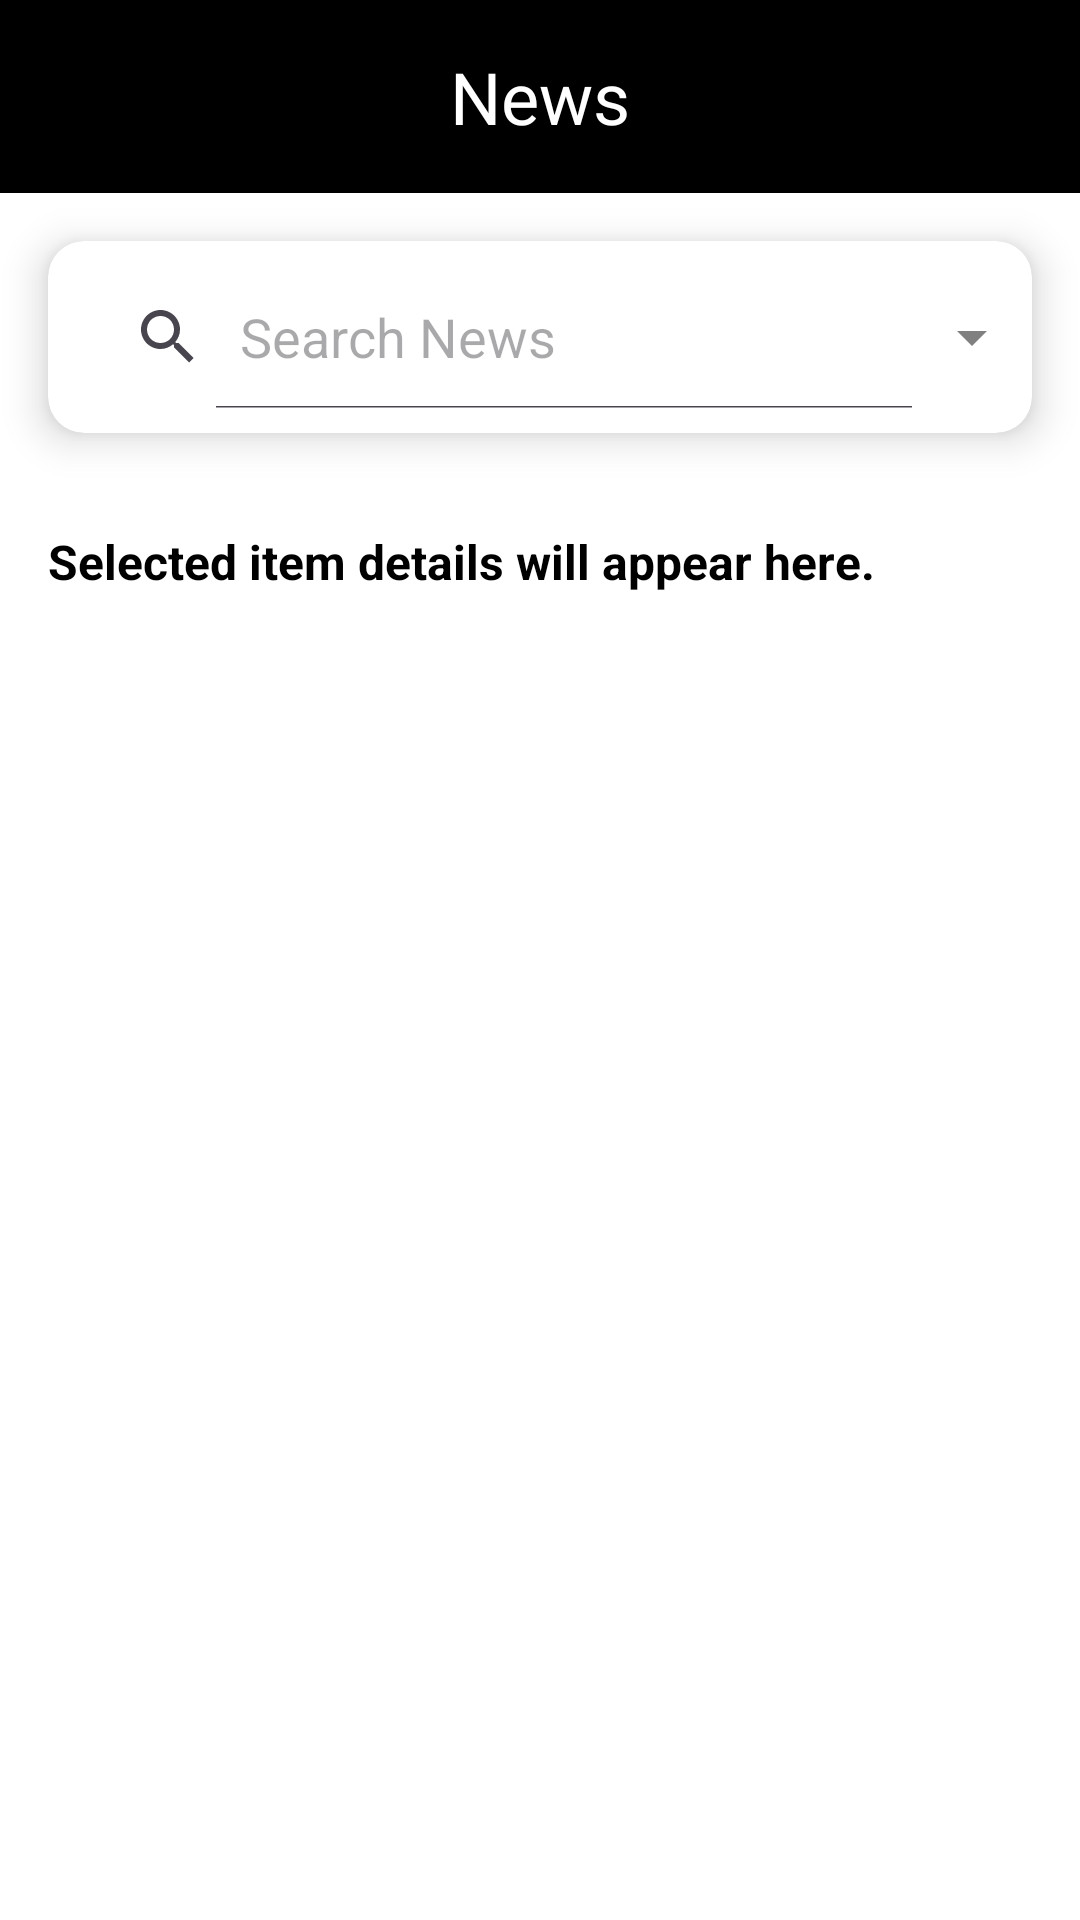

Screen size 1080px×1920px. Icon name, then its box in pixels as (x1,y1,x2,y2):
Dropdown Icon: (957,331,987,346)
